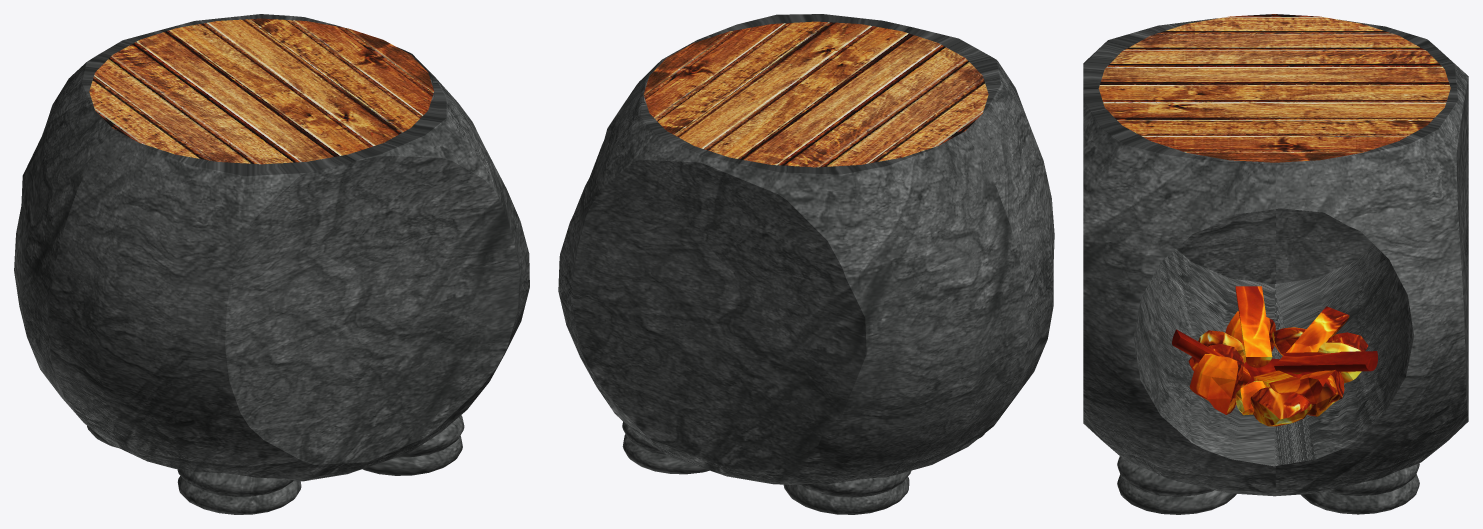
File: HornoPicapiedras.obj
3 renders of one model, left to right at view 1: azimuth 30°, elevation 25°; view 2: azimuth 150°, elevation 25°; view 3: azimuth 270°, elevation 25°, orthographic. The views are drawn at different scales.
Parts seen in each view (by area): view 1: pDisc3; view 2: pDisc3; view 3: pDisc3.
Boxes of the visible parts, x1,y1,x2,y2 form: pDisc3: (14,14,529,514); pDisc3: (558,14,1054,514); pDisc3: (1083,14,1468,514).
Bounding box in the file's own units: 37.42 × 30.89 × 29.57.
3 materials, 3 textured.
